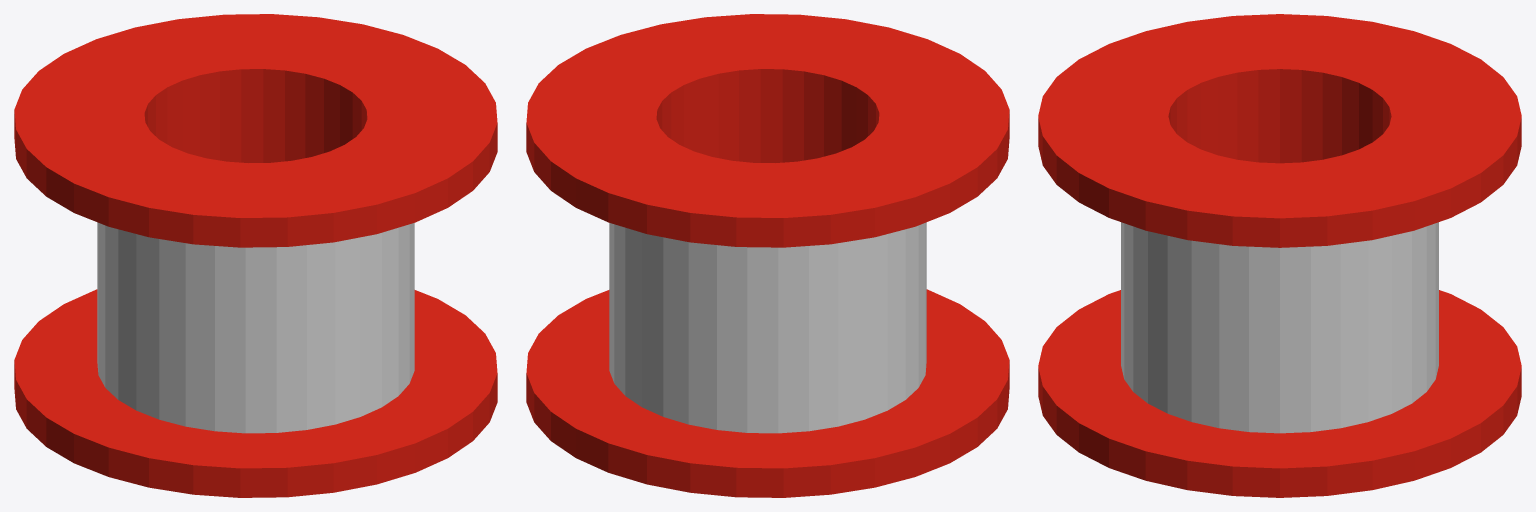
Rendered from LeikRul.fbx.
3 views of the same model, side by side, from view 1: azimuth 30°, elevation 25°; view 2: azimuth 150°, elevation 25°; view 3: azimuth 270°, elevation 25° (orthographic).
Visible parts, largest first — view 1: Cylinder.001; view 2: Cylinder.001; view 3: Cylinder.001.
Part boxes in pixels (box(x1,y1,x2,y2)): Cylinder.001: box(14, 14, 497, 497); Cylinder.001: box(526, 14, 1009, 497); Cylinder.001: box(1038, 14, 1521, 497).
Bounding box in the file's own units: 21.32 × 13.6 × 21.32.
